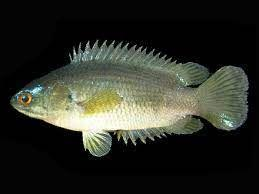Climbing Perch: (5, 37, 255, 167)
